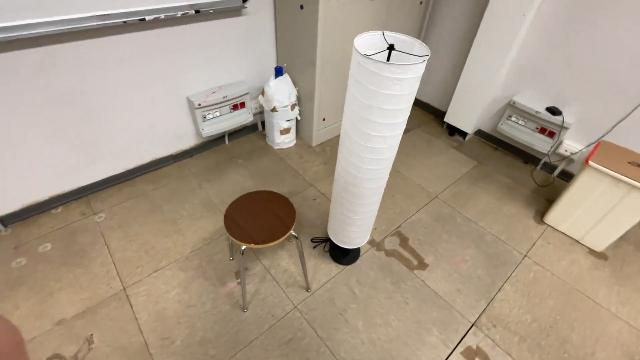Lamp: (324, 27, 434, 269)
Stool: (222, 186, 314, 318)
